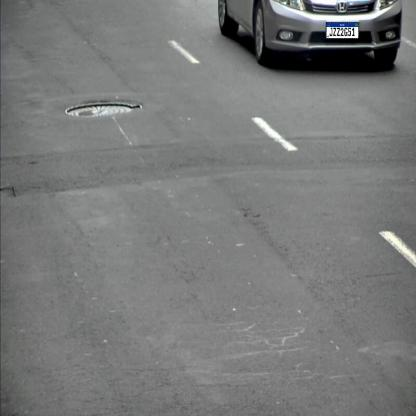PlacaM: (326, 22, 359, 39)
